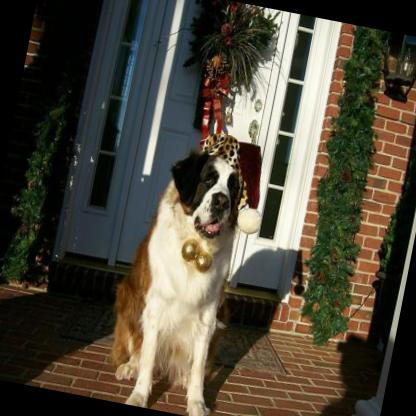Saint_Bernard: (92, 137, 260, 416)
